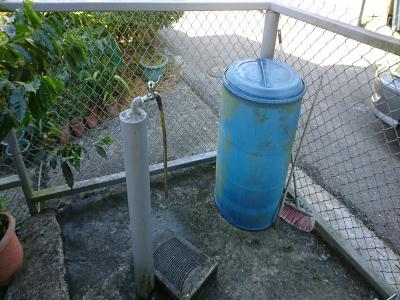bucket: (212, 57, 306, 232)
